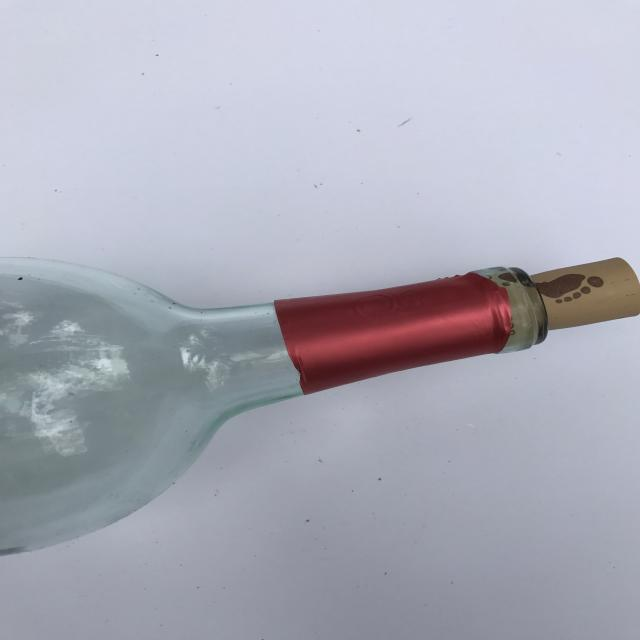glass: (0, 253, 640, 557)
